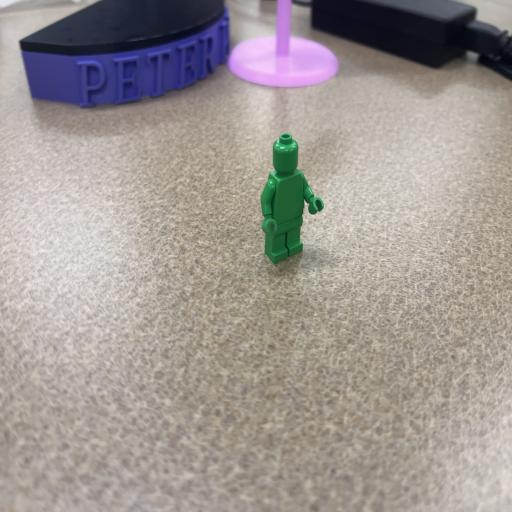Lego-Minifig: (261, 133, 324, 263)
